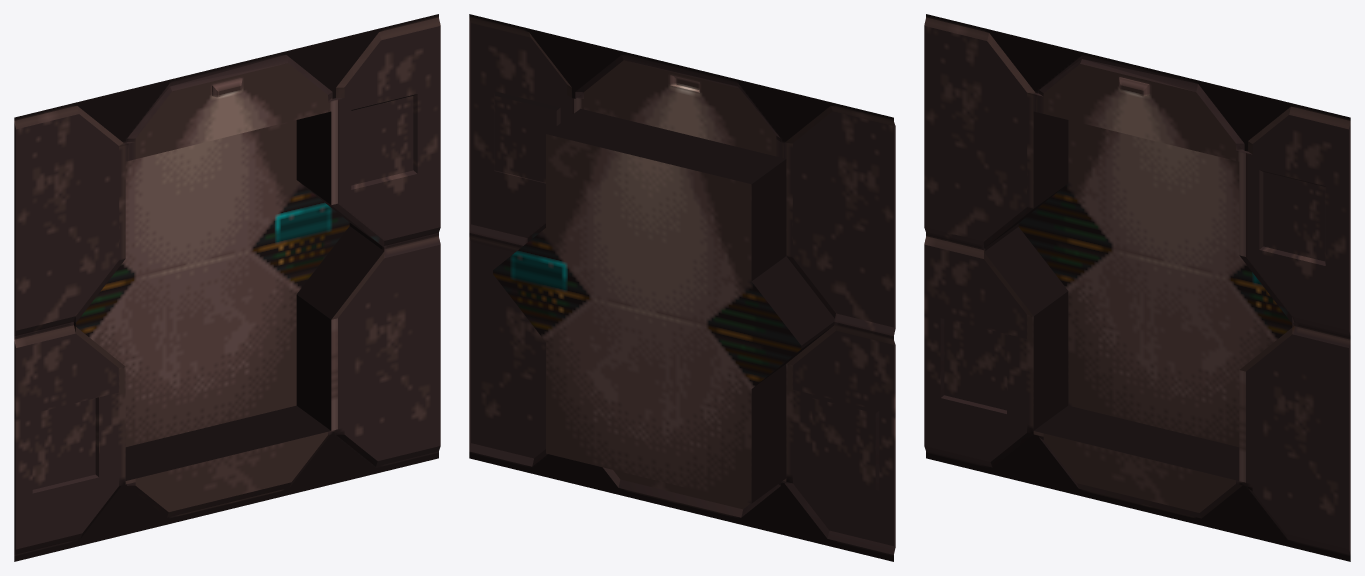
File: eng_wallpump_eng1_5.fbx
3 views of the same model, side by side, from view 1: azimuth 30°, elevation 25°; view 2: azimuth 150°, elevation 25°; view 3: azimuth 330°, elevation 25° (orthographic).
Visible parts, largest first — view 1: eng1_5_mesh; view 2: eng1_5_mesh; view 3: eng1_5_mesh.
Part boxes in pixels (x1=…): eng1_5_mesh: x1=14, y1=14, x2=440, y2=561; eng1_5_mesh: x1=469, y1=14, x2=895, y2=561; eng1_5_mesh: x1=924, y1=14, x2=1350, y2=561.
Size of the model in its own units: 256 by 256 by 39.2.
